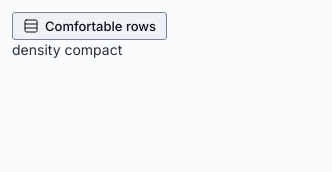
table density › is compact by default and toggles to comfortable, persisted
The width and height of the screenshot is (332, 172).
Later steps or results of the test are not shown.
expect the text "density compact" is shown: met, box [12, 41, 122, 58]
Click the button "Comfortable rows": [90, 26] box [12, 12, 167, 40]
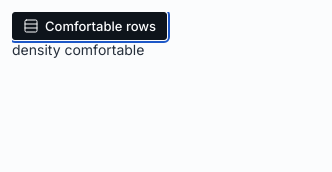
expect the button "Comfortable rows" is pressed: met, box [12, 12, 167, 40]
